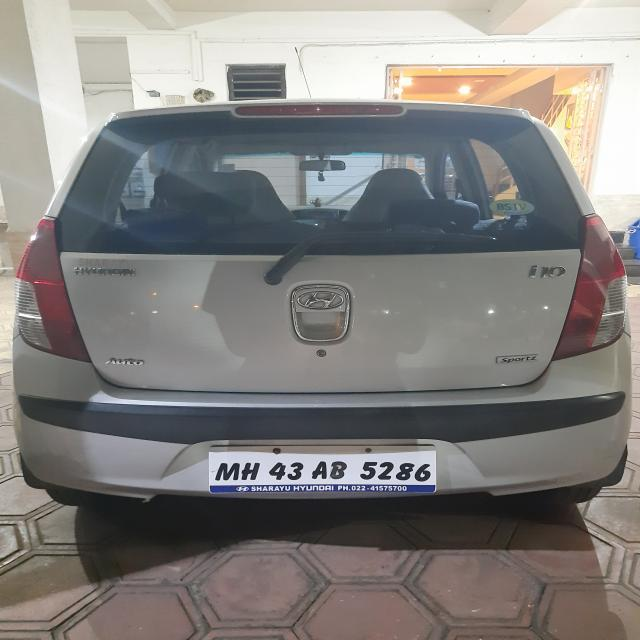Number-Plate: (199, 450, 435, 488)
